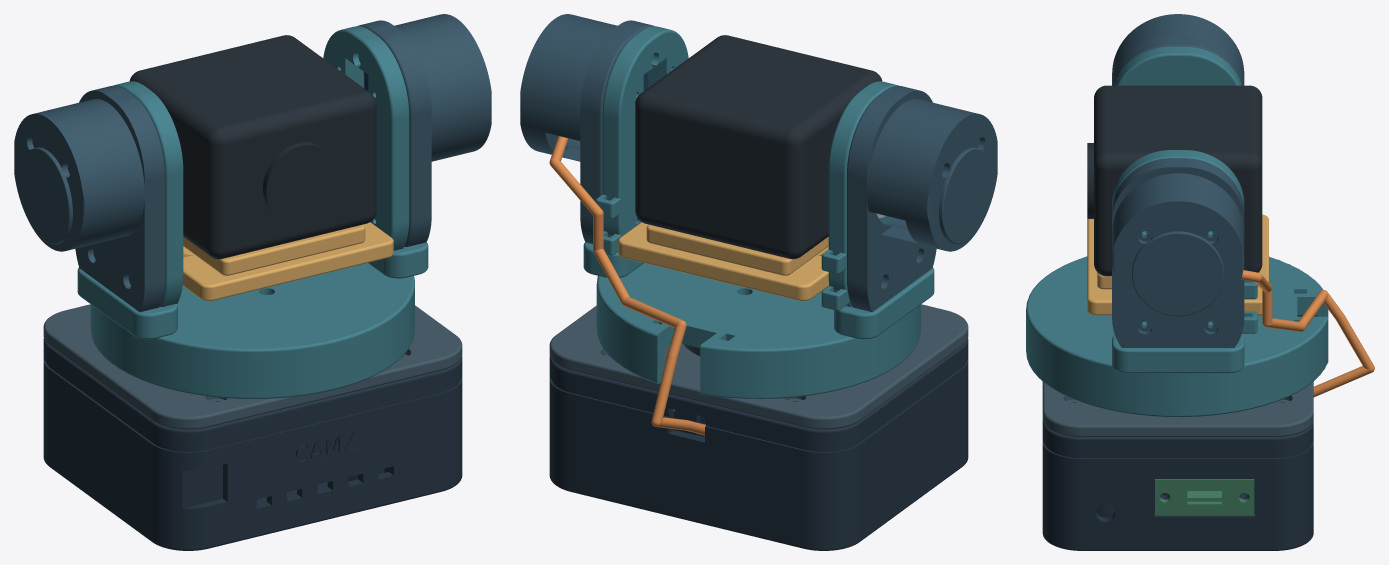
Rendered from camx.glb.
The picture shows the model from 3 angles, left to right: view 1: azimuth 30°, elevation 25°; view 2: azimuth 150°, elevation 25°; view 3: azimuth 270°, elevation 25°; orthographic projection. The views are drawn at different scales.
Visible parts, largest first — view 1: base, camera_envelope, pan_arm, idler_cover, tilt_cover, lid, drive_arm, camera_cradle, idler_arm, camera_lens; view 2: base, camera_envelope, pan_arm, idler_cover, lid, tilt_cover, drive_arm, camera_cradle, idler_arm, tilt_cable_route; view 3: base, tilt_cover, pan_arm, camera_envelope, lid, drive_arm, idler_cover, idler_arm, usb_flange_envelope, tilt_cable_route, camera_cradle, camera_lens.
Boxes of the visible parts, bbox=[...] form: base: bbox=[43, 338, 462, 550]; camera_envelope: bbox=[129, 35, 376, 259]; pan_arm: bbox=[90, 263, 414, 398]; idler_cover: bbox=[14, 85, 164, 312]; tilt_cover: bbox=[357, 14, 491, 246]; lid: bbox=[43, 304, 462, 429]; drive_arm: bbox=[323, 26, 428, 278]; camera_cradle: bbox=[182, 222, 393, 300]; idler_arm: bbox=[77, 81, 183, 339]; camera_lens: bbox=[263, 142, 336, 220]; base: bbox=[549, 338, 968, 550]; camera_envelope: bbox=[635, 35, 882, 259]; pan_arm: bbox=[596, 263, 920, 398]; idler_cover: bbox=[847, 85, 997, 312]; lid: bbox=[549, 304, 968, 429]; tilt_cover: bbox=[520, 14, 654, 243]; drive_arm: bbox=[583, 26, 688, 277]; camera_cradle: bbox=[618, 222, 829, 300]; idler_arm: bbox=[821, 81, 934, 339]; tilt_cable_route: bbox=[549, 136, 705, 435]; base: bbox=[1042, 420, 1313, 550]; tilt_cover: bbox=[1112, 158, 1244, 347]; pan_arm: bbox=[1026, 256, 1328, 417]; camera_envelope: bbox=[1094, 85, 1262, 276]; lid: bbox=[1042, 381, 1313, 437]; drive_arm: bbox=[1112, 150, 1257, 373]; idler_cover: bbox=[1112, 14, 1244, 85]; idler_arm: bbox=[1114, 46, 1241, 85]; usb_flange_envelope: bbox=[1155, 479, 1254, 515]; tilt_cable_route: bbox=[1241, 270, 1374, 397]; camera_cradle: bbox=[1087, 214, 1268, 315]; camera_lens: bbox=[1087, 143, 1093, 218].
Size of the model in its own units: 0.1366 by 0.127 by 0.1055.
